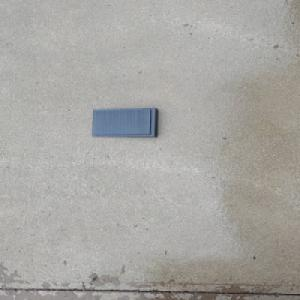PlasticPart: (90, 106, 159, 138)
